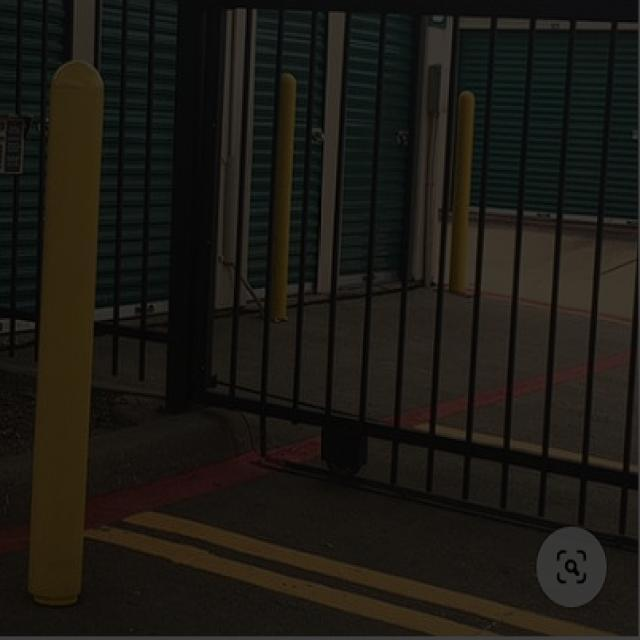Bollard: (23, 56, 108, 614), (269, 70, 299, 326), (448, 88, 474, 296)
